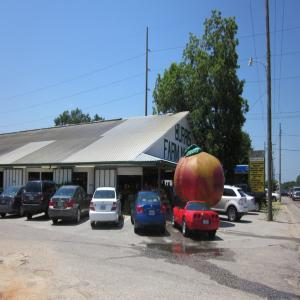Vehicle-registration-plate: (204, 220, 210, 225), (150, 211, 155, 216)
